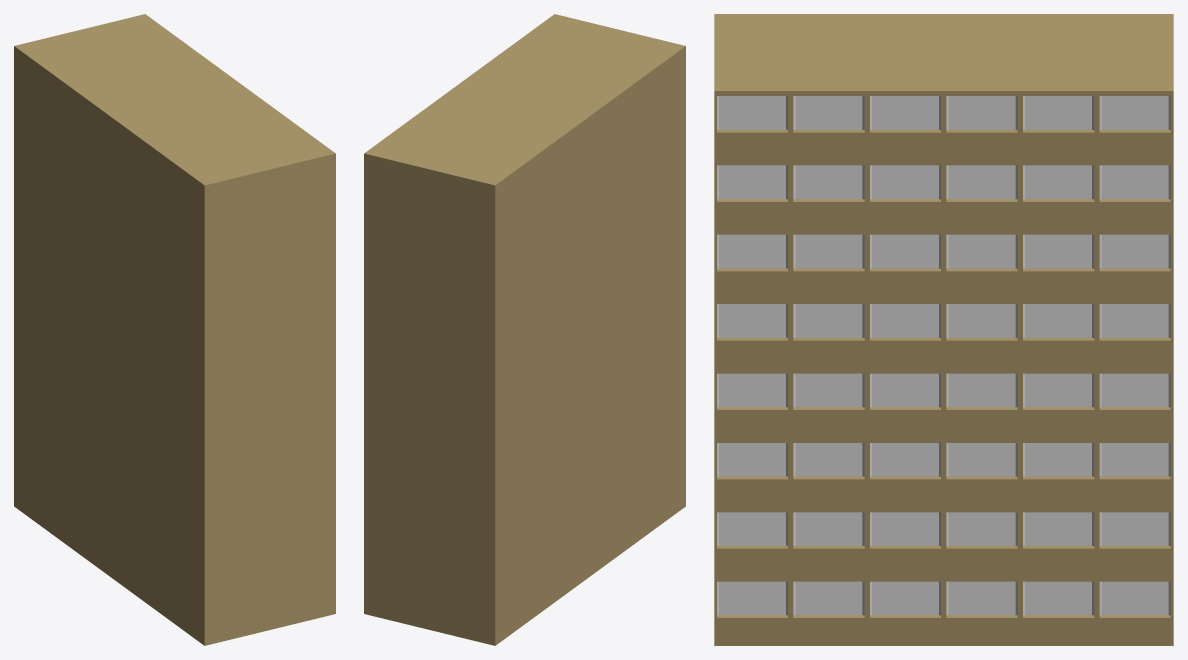
Rendered from commieBlock.fbx.
The picture shows the model from 3 angles, left to right: view 1: azimuth 30°, elevation 25°; view 2: azimuth 150°, elevation 25°; view 3: azimuth 270°, elevation 25°; orthographic projection. The views are drawn at different scales.
Parts seen in each view (by area): view 1: Cube; view 2: Cube; view 3: Cube.
Boxes of the visible parts, x1,y1,x2,y2 form: Cube: (14,14,335,645); Cube: (364,14,685,645); Cube: (714,14,1173,645).
Size of the model in its own units: 477 by 1600 by 1200.
